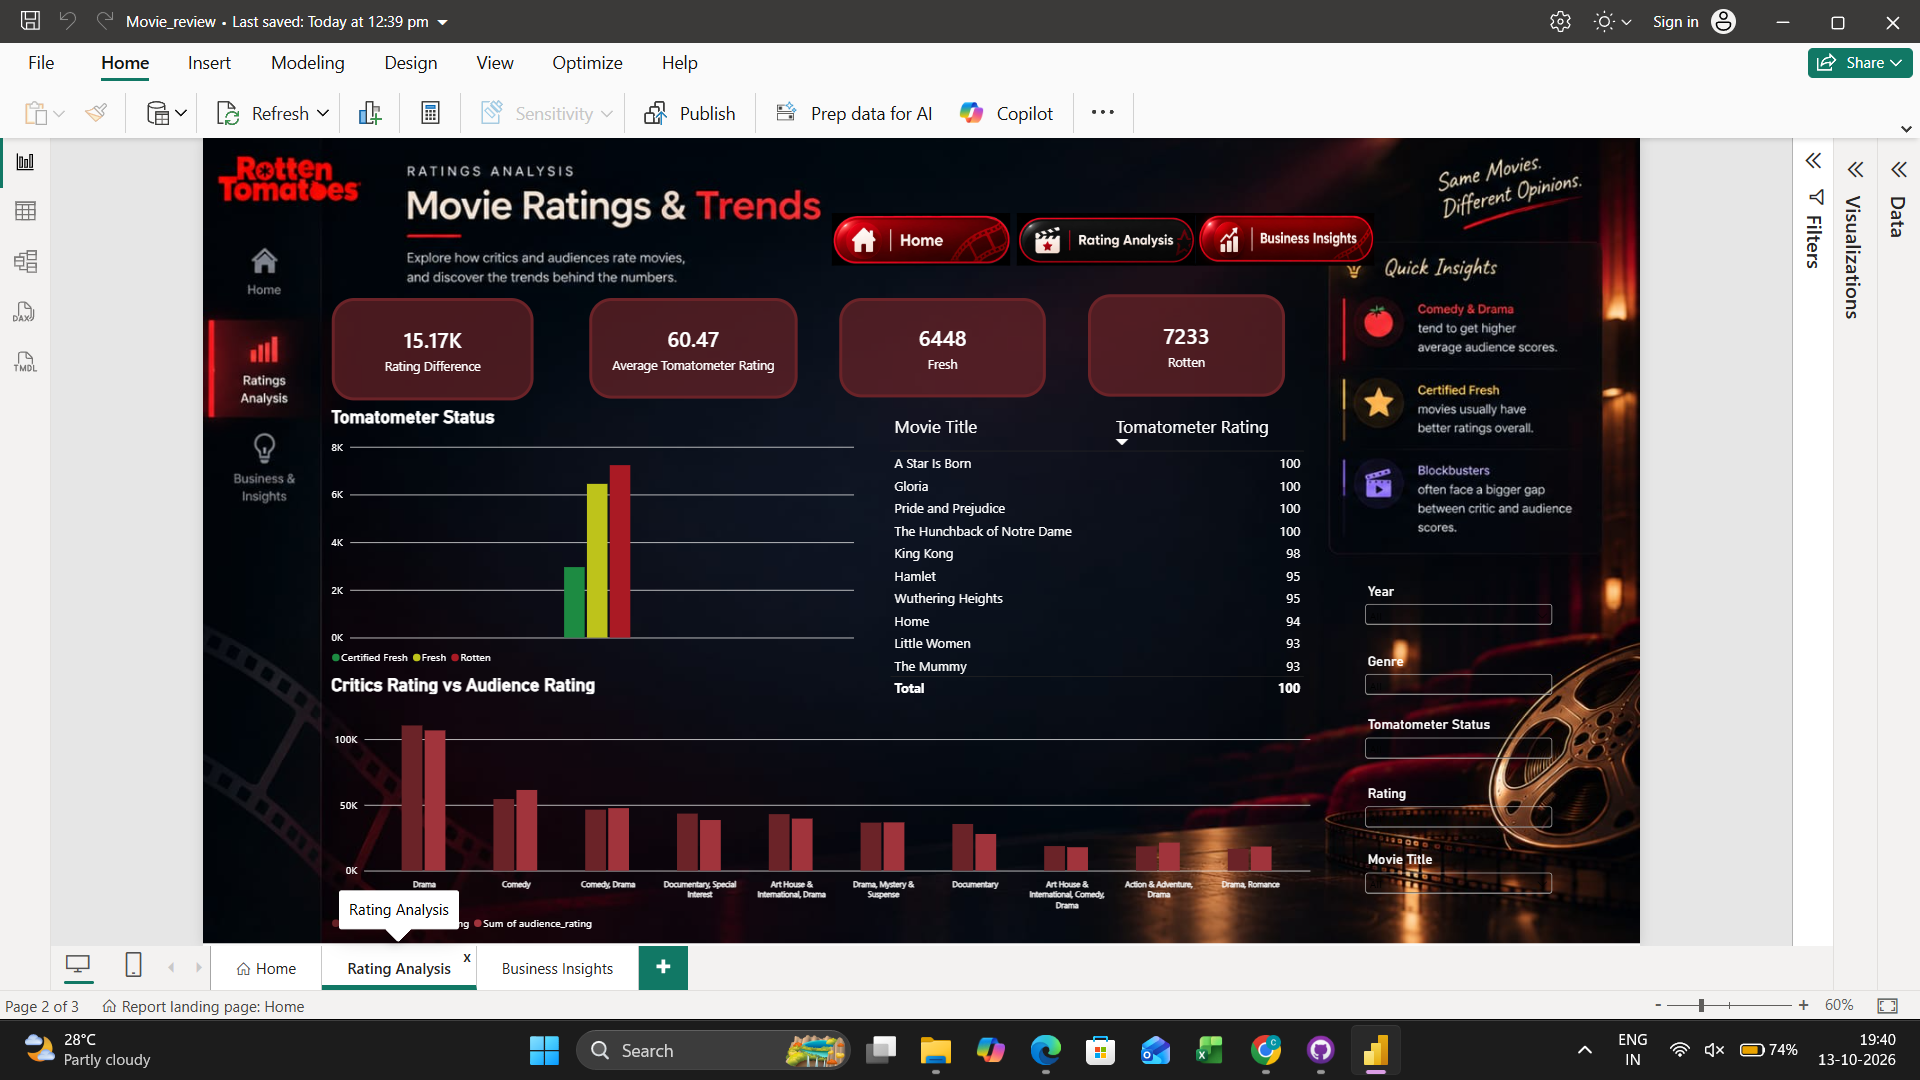

What the dashboard file says about the page in this screenshot:
{"tool":"powerbi","page":{"name":"Rating Analysis","canvas":[1920,1080],"ordinal":1},"visuals":[{"type":"slicer","fields":{"Values":["Rotten Tomatoes Movies.in_theaters_date.Variation.Date Hierarchy.Year"]},"box":[1547.9,594.9,259.3,72],"z":0},{"type":"slicer","fields":{"Values":["Rotten Tomatoes Movies.genre"]},"box":[1547.9,687.5,259.3,72],"z":1000},{"type":"slicer","fields":{"Values":["Rotten Tomatoes Movies.tomatometer_status"]},"box":[1547.9,773.9,259.3,72],"z":2000},{"type":"slicer","fields":{"Values":["Rotten Tomatoes Movies.rating"]},"box":[1548.3,864.9,259.3,74.1],"z":3000},{"type":"actionButton","box":[1087.8,100,238.9,70],"z":4000},{"type":"actionButton","box":[839.8,100.9,238,70],"z":5000},{"type":"actionButton","box":[1326.5,100,238.9,70],"z":6000},{"type":"clusteredColumnChart","title":"Tomatometer Status","fields":{"Series":["Rotten Tomatoes Movies.tomatometer_status"],"Y":["CountNonNull(Rotten Tomatoes Movies.movie_title)"]},"box":[156,344,730,380],"z":7000},{"type":"card","fields":{"Values":["Avg(Rotten Tomatoes Movies.tomatometer_rating)"]},"box":[515.2,213,278.3,134.8],"z":8000},{"type":"card","fields":{"Values":["Rotten Tomatoes Movies.Certified Fresh"]},"box":[850,213,276.1,132.6],"z":9000},{"type":"clusteredColumnChart","title":"Critics Rating vs Audience Rating","fields":{"Category":["Rotten Tomatoes Movies.genre"],"Y":["Sum(Rotten Tomatoes Movies.tomatometer_rating)","Sum(Rotten Tomatoes Movies.audience_rating)"]},"box":[156,702,1340,378],"z":10000},{"type":"card","fields":{"Values":["Rotten Tomatoes Movies.Rotten"]},"box":[1182.6,208.7,263,137],"z":11000},{"type":"card","fields":{"Values":["Rotten Tomatoes Movies.Rating Difference"]},"box":[171.7,213,269.6,137],"z":12000},{"type":"tableEx","fields":{"Values":["Rotten Tomatoes Movies.movie_title","Max(Rotten Tomatoes Movies.tomatometer_rating)"]},"box":[902,350,586,420],"z":13000},{"type":"slicer","fields":{"Values":["Rotten Tomatoes Movies.movie_title"]},"box":[1547.9,953,259.3,74.1],"z":14000}]}

Visuals, with their boxes on the page's 1920x1080 design canvas (x1, y1, x2, y2). These are canvas units, not pixel positions in the 1920x1080 screenshot, which may show the page scaled, cropped or inside an application window:
slicer - Rotten Tomatoes Movies.in_theaters_date.Variation.Date Hierarchy.Year: region(1548, 595, 1807, 667)
slicer - Rotten Tomatoes Movies.genre: region(1548, 688, 1807, 760)
slicer - Rotten Tomatoes Movies.tomatometer_status: region(1548, 774, 1807, 846)
slicer - Rotten Tomatoes Movies.rating: region(1548, 865, 1808, 939)
actionButton: region(1088, 100, 1327, 170)
actionButton: region(840, 101, 1078, 171)
actionButton: region(1326, 100, 1565, 170)
"Tomatometer Status" clusteredColumnChart: region(156, 344, 886, 724)
card - Avg(Rotten Tomatoes Movies.tomatometer_rating): region(515, 213, 794, 348)
card - Rotten Tomatoes Movies.Certified Fresh: region(850, 213, 1126, 346)
"Critics Rating vs Audience Rating" clusteredColumnChart: region(156, 702, 1496, 1080)
card - Rotten Tomatoes Movies.Rotten: region(1183, 209, 1446, 346)
card - Rotten Tomatoes Movies.Rating Difference: region(172, 213, 441, 350)
tableEx - Rotten Tomatoes Movies.movie_title x Max(Rotten Tomatoes Movies.tomatometer_rating): region(902, 350, 1488, 770)
slicer - Rotten Tomatoes Movies.movie_title: region(1548, 953, 1807, 1027)
